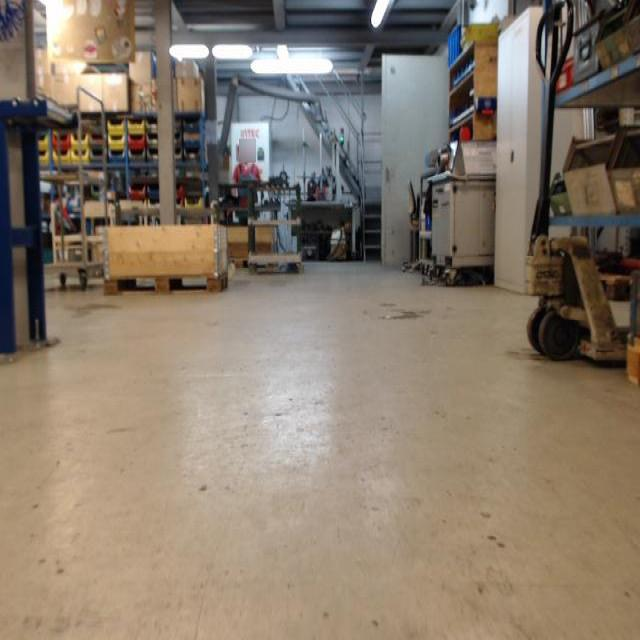pallet: (101, 269, 231, 296), (232, 254, 282, 269)
pallet_truck: (519, 3, 633, 372)
